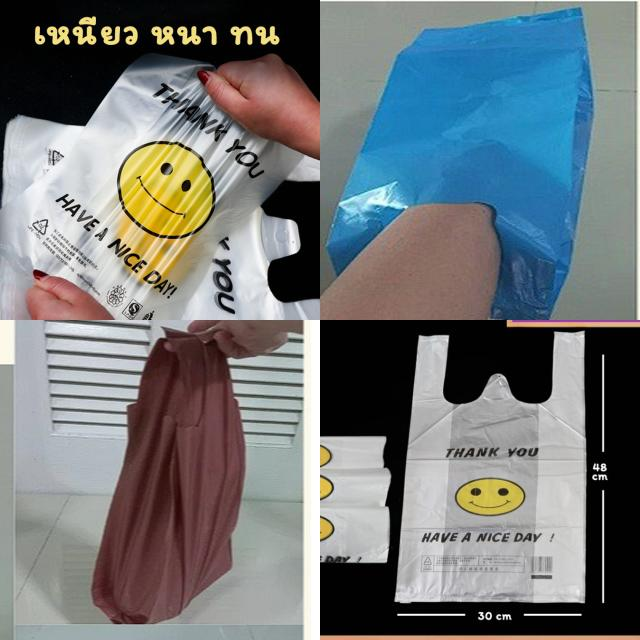Single-layer Plastic: (326, 8, 592, 319), (0, 54, 302, 319), (395, 332, 584, 602), (91, 331, 245, 623)
